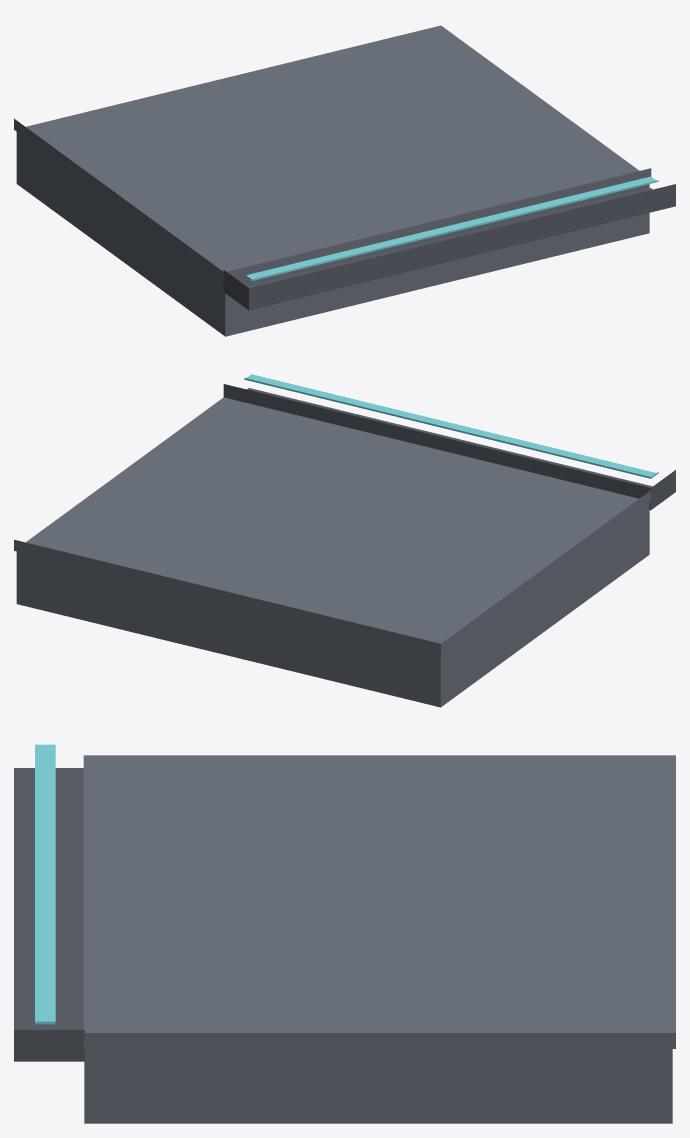
The model's file is ext_tram_platform_kerb_03.glb.
3 views of the same model, one above another, from view 1: azimuth 30°, elevation 25°; view 2: azimuth 150°, elevation 25°; view 3: azimuth 270°, elevation 25° (orthographic). The views are drawn at different scales.
Parts seen in each view (by area): view 1: Deck, Body, Lip, Edge_Strip; view 2: Deck, Body, Lip, Edge_Strip; view 3: Deck, Body, Lip, Edge_Strip.
Boxes of the visible parts, <box> form: Deck: <box>14,25,651,282</box>; Body: <box>16,132,649,336</box>; Lip: <box>223,184,675,310</box>; Edge_Strip: <box>244,176,658,280</box>; Deck: <box>14,397,650,654</box>; Body: <box>16,503,649,707</box>; Lip: <box>223,384,675,510</box>; Edge_Strip: <box>244,374,658,478</box>; Deck: <box>83,755,675,1048</box>; Body: <box>84,1049,672,1123</box>; Lip: <box>14,768,84,1061</box>; Edge_Strip: <box>35,744,55,1024</box>.
Bounding box in the file's own units: 1.99 × 0.304 × 1.9.
